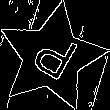P_SW: (23, 26, 80, 88)
